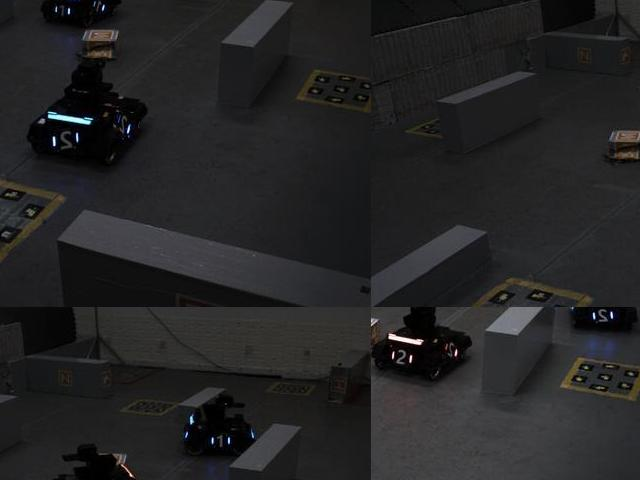armor: (48, 127, 86, 157), (113, 113, 139, 140), (387, 346, 415, 370), (589, 307, 619, 327), (205, 431, 234, 451), (442, 339, 462, 363), (51, 1, 73, 22), (89, 0, 114, 18)
